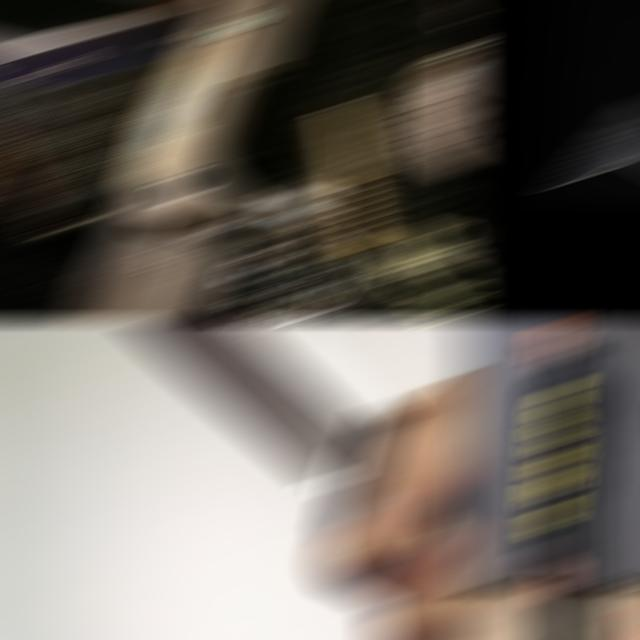Knife: (130, 323, 408, 523), (544, 3, 640, 181)
Knife_Handle: (12, 323, 477, 637)
